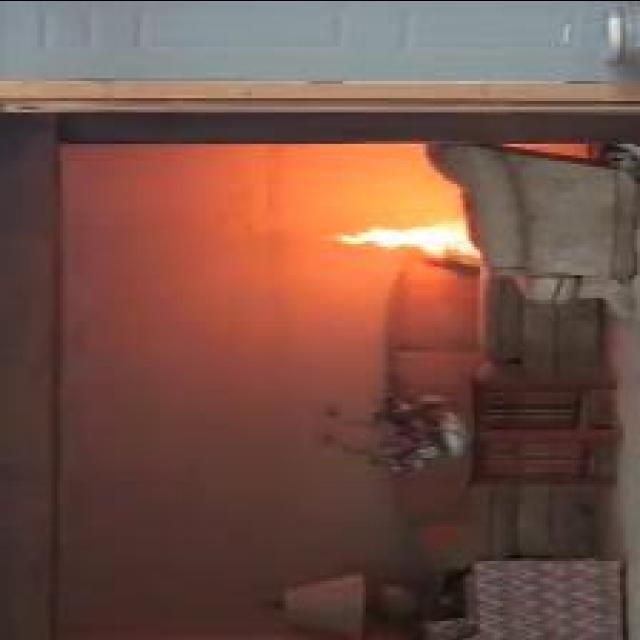Fire: (336, 217, 482, 257)
